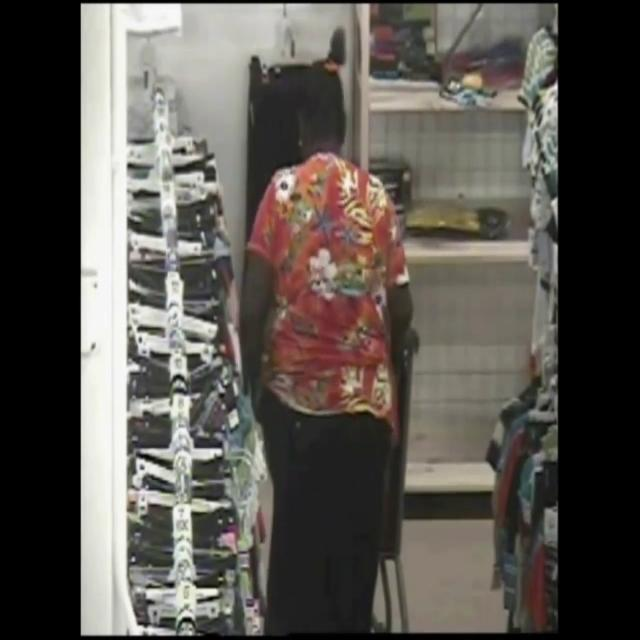normal: (212, 18, 438, 640)
